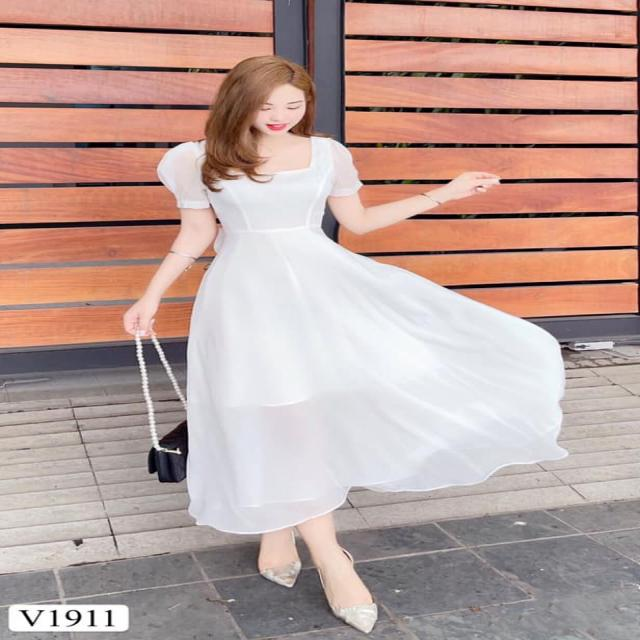clothes: (118, 132, 566, 536)
